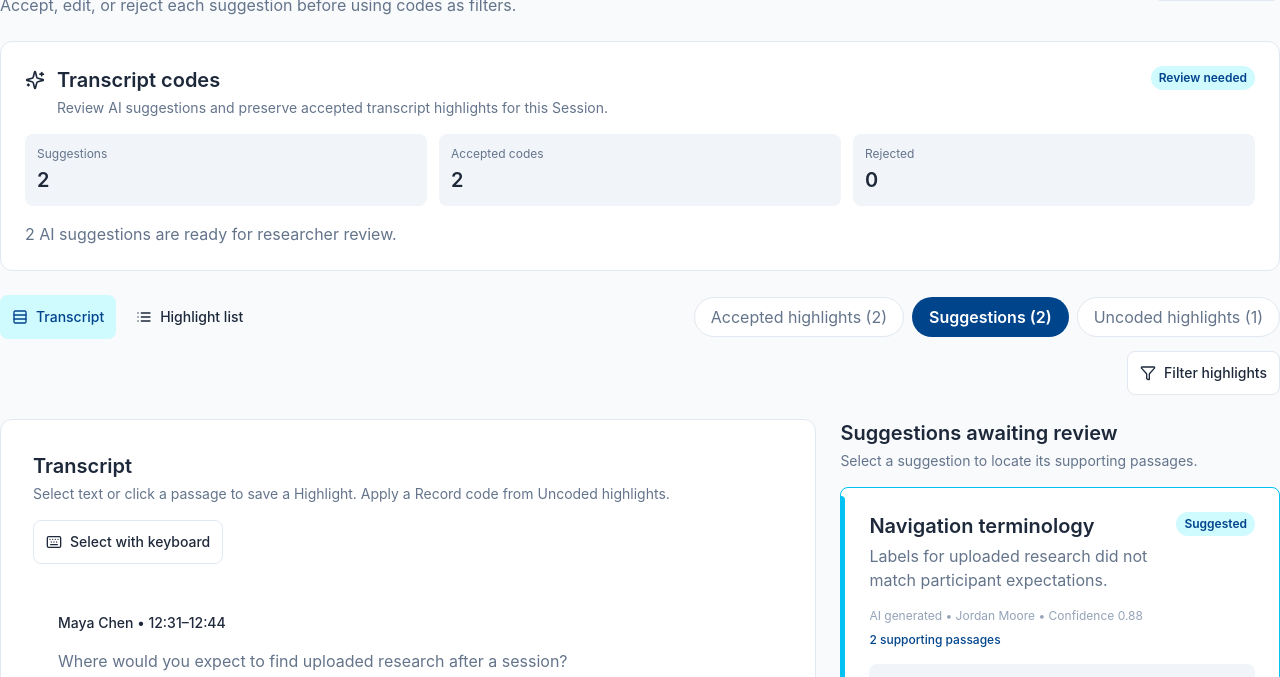
it: Transcript Coding Workspace filters › applies an existing Code directly from the Uncoded highlights rail
Click the tab "Uncoded highlights (1)". click: click(1178, 317)
box: [1077,297,1279,337]
(page scrolled)
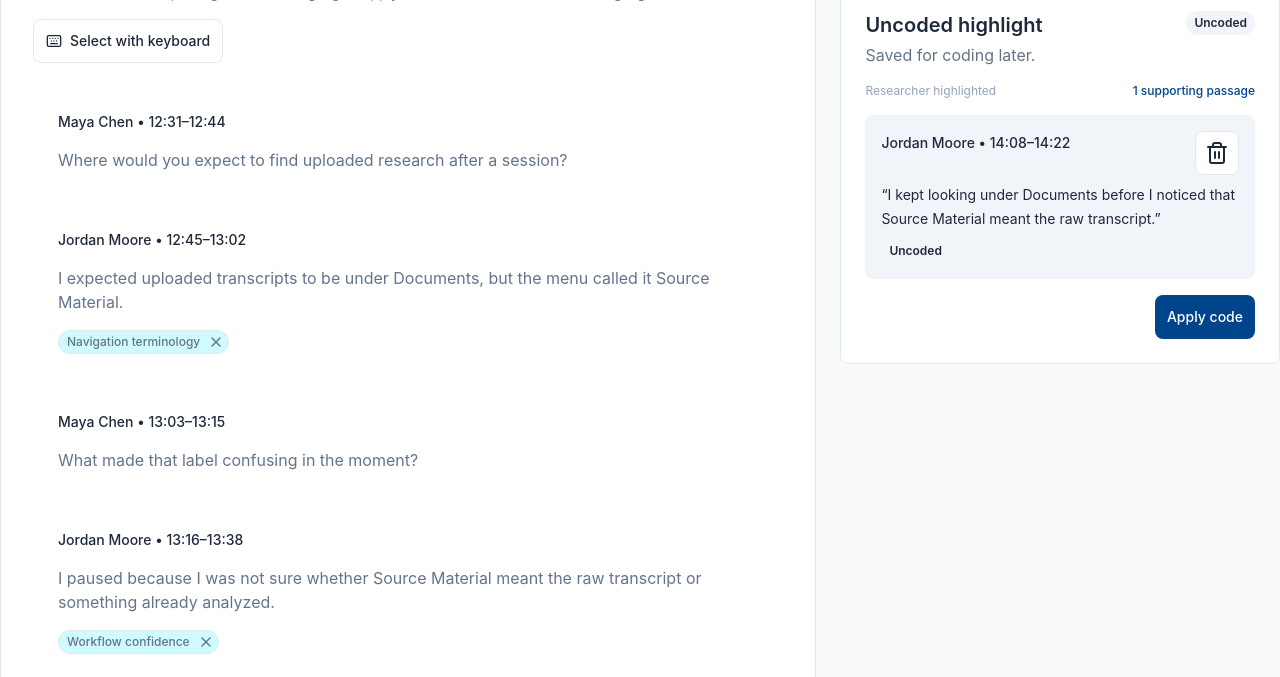
Click the button "Apply code". click: click(1205, 317)
box: [1155,295,1255,339]
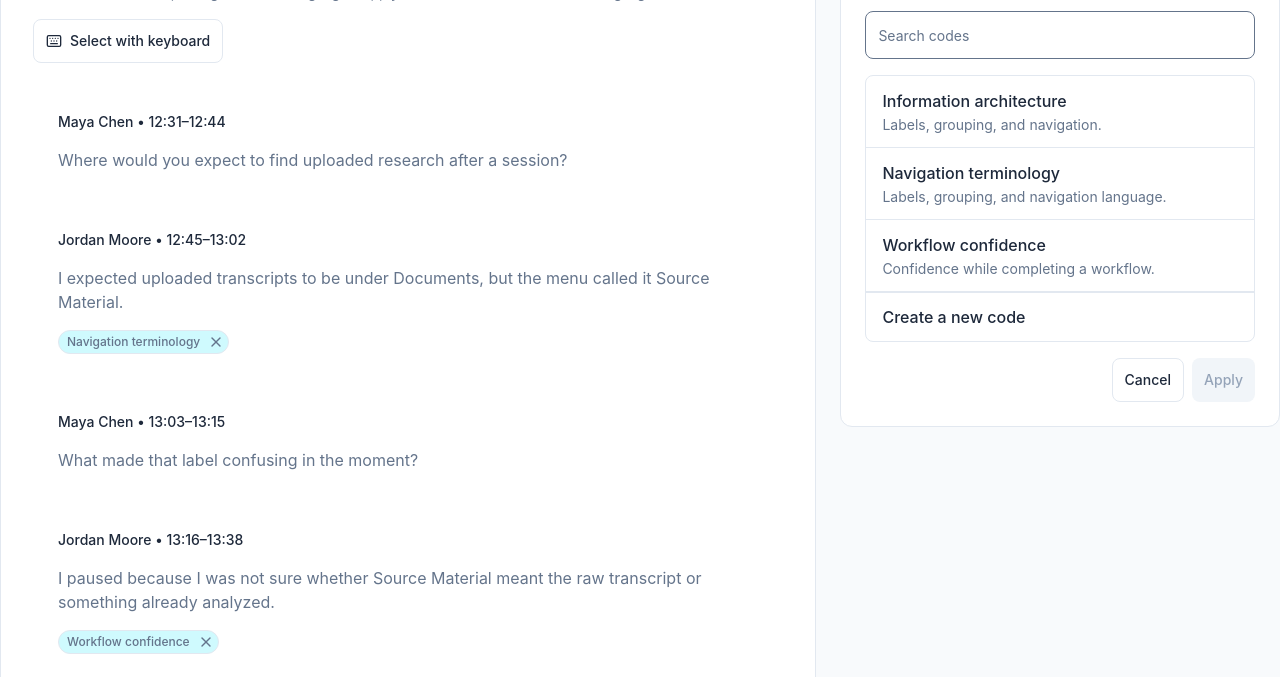
Click the option "Navigation terminology". click: click(1060, 184)
box: [866,148,1254,220]
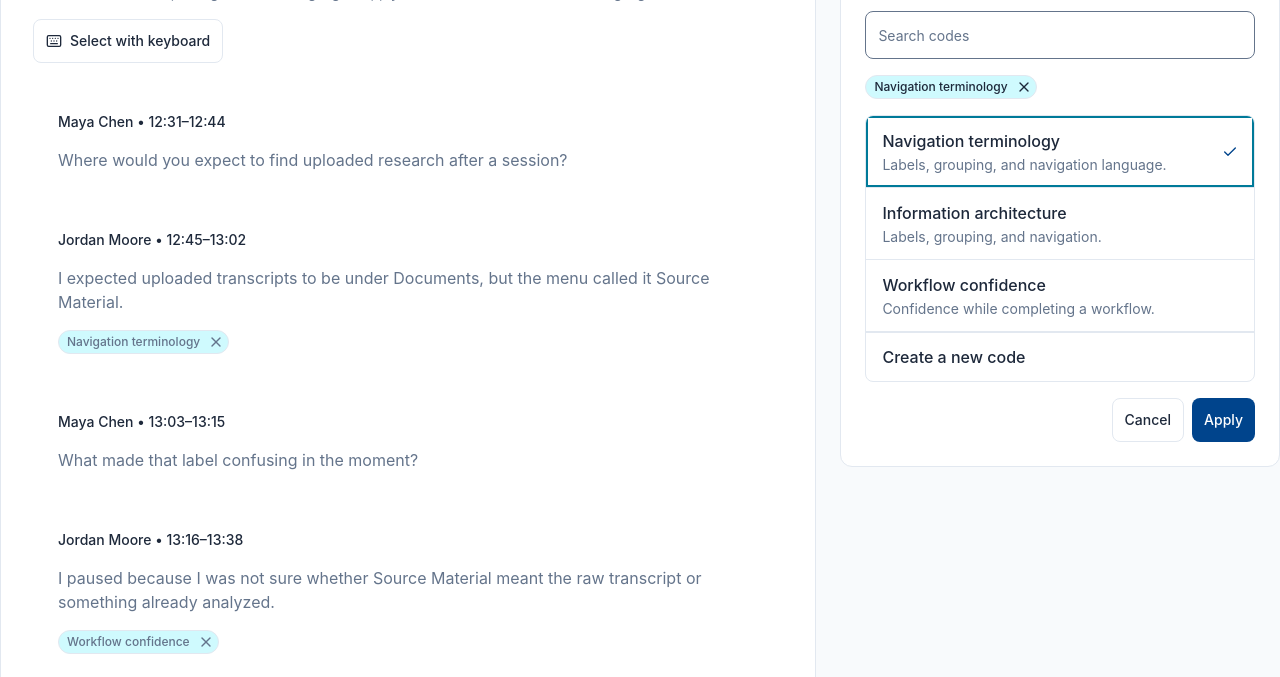
Click the button "Apply". click: click(1224, 420)
box: [1192,398,1255,442]
(page scrolled)
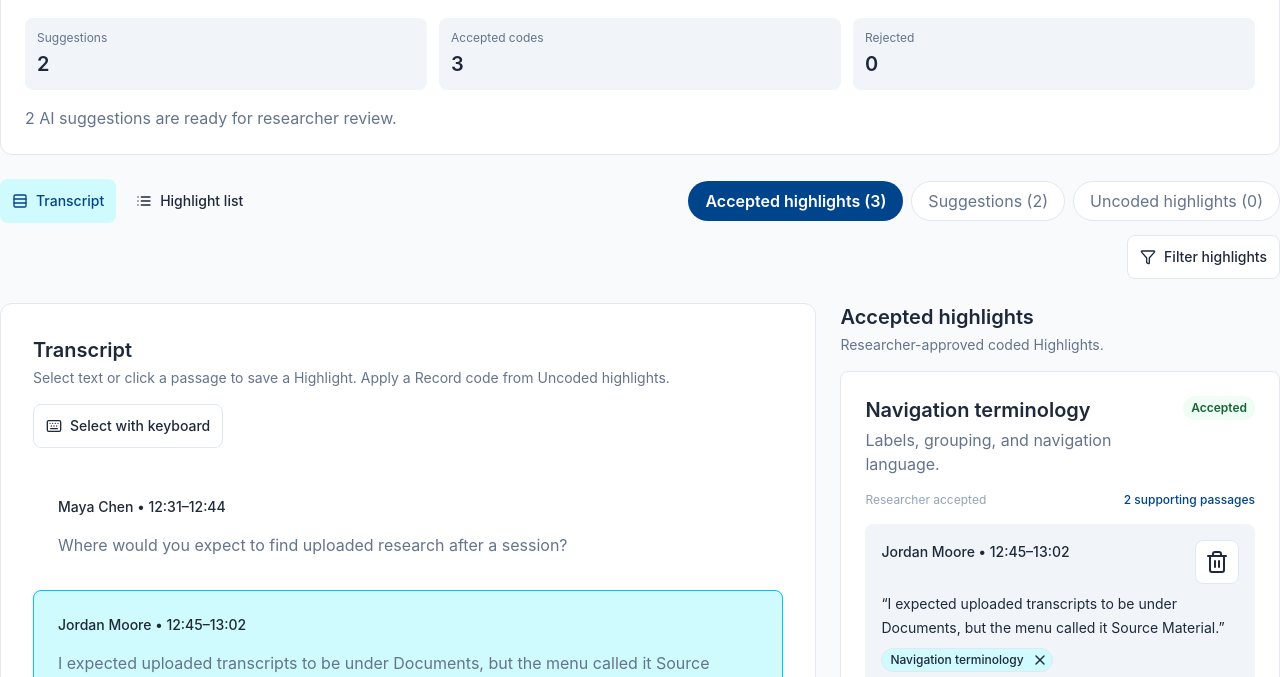
Expected: the heading "Accepted highlights" is shown, [840,305,1034,329]
